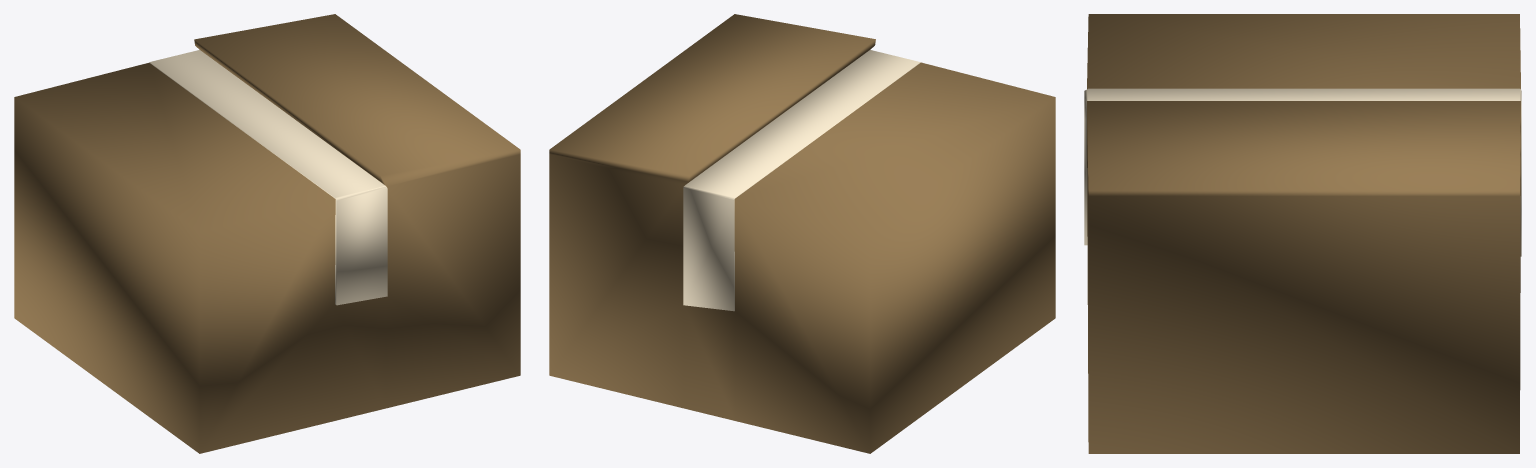
The model's file is carton.fbx.
3 views of the same model, side by side, from view 1: azimuth 30°, elevation 25°; view 2: azimuth 150°, elevation 25°; view 3: azimuth 270°, elevation 25° (orthographic). The views are drawn at different scales.
Parts seen in each view (by area): view 1: Cube; view 2: Cube; view 3: Cube.
Part boxes in pixels (<box>): Cube: <box>14,14,520,453</box>; Cube: <box>549,14,1055,453</box>; Cube: <box>1084,14,1521,453</box>.
Bounding box in the file's own units: 200 × 140 × 203.
